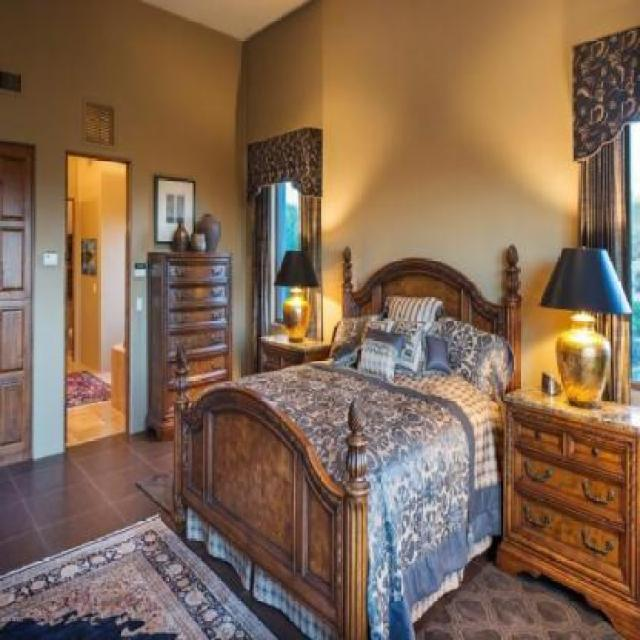Floor: (0, 401, 311, 638), (413, 534, 503, 635), (67, 350, 111, 385)
